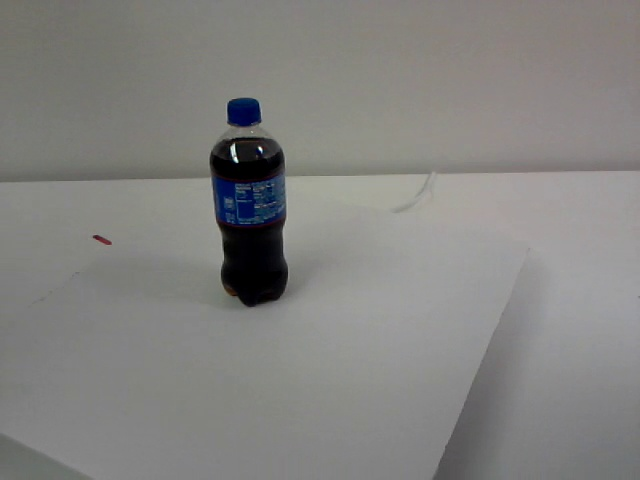botolplastik: (210, 98, 286, 307)
